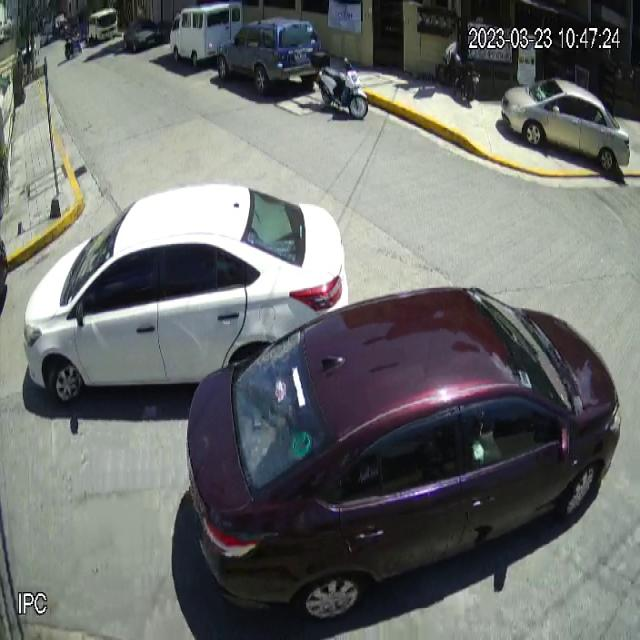Car: (185, 284, 623, 624), (22, 182, 350, 403), (501, 76, 630, 170), (217, 16, 322, 95)
Motorcycle: (311, 51, 368, 120)
Van: (170, 0, 244, 67)
